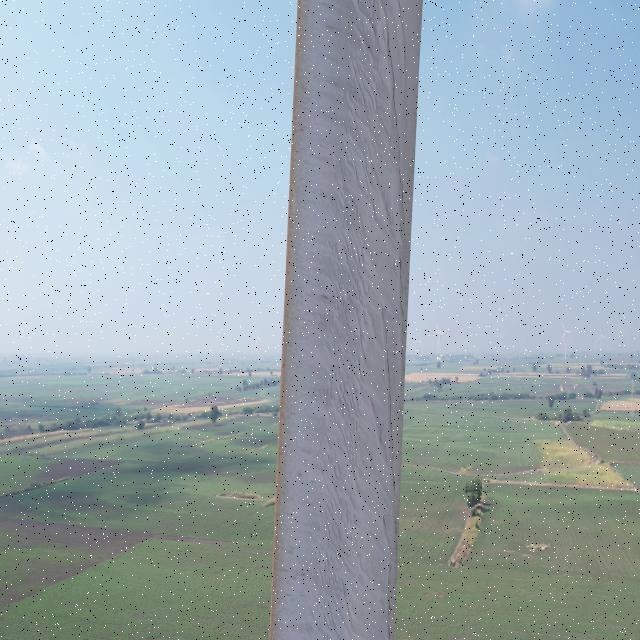Dirt: (275, 0, 421, 640)
